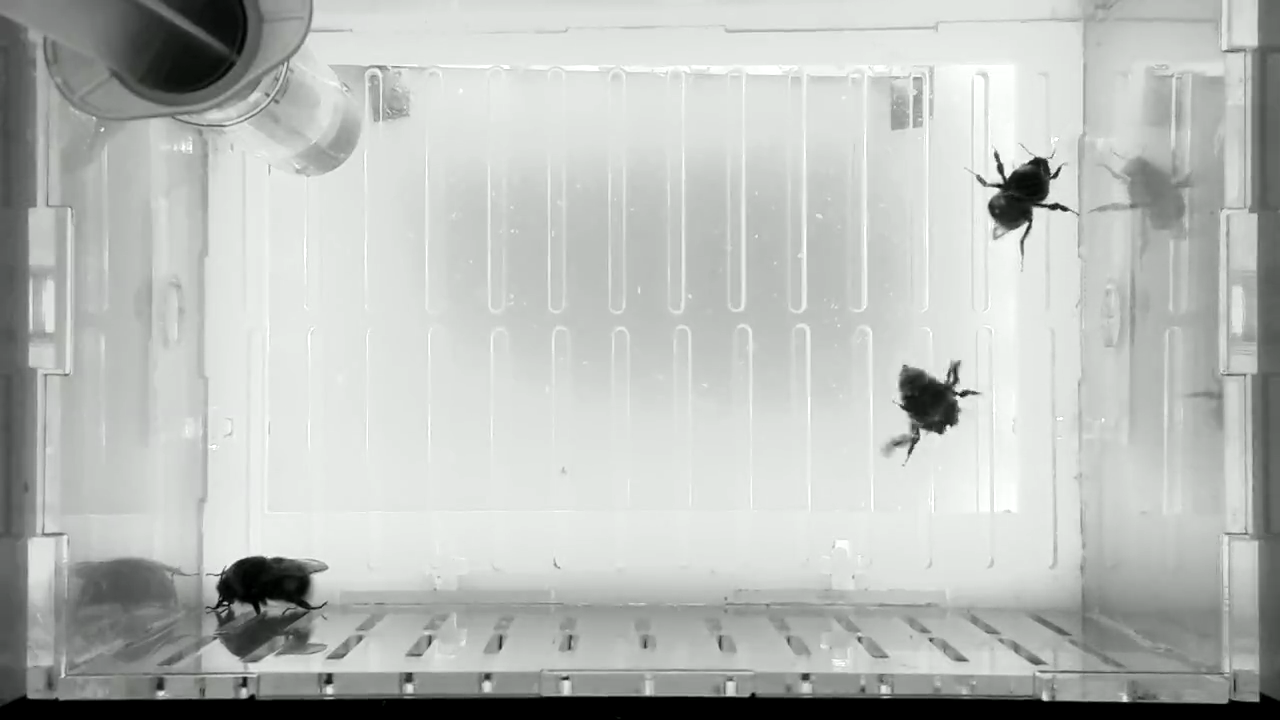bee_alive: (962, 137, 1084, 274), (882, 355, 984, 469), (205, 552, 343, 614)
feeder: (214, 39, 369, 185)
